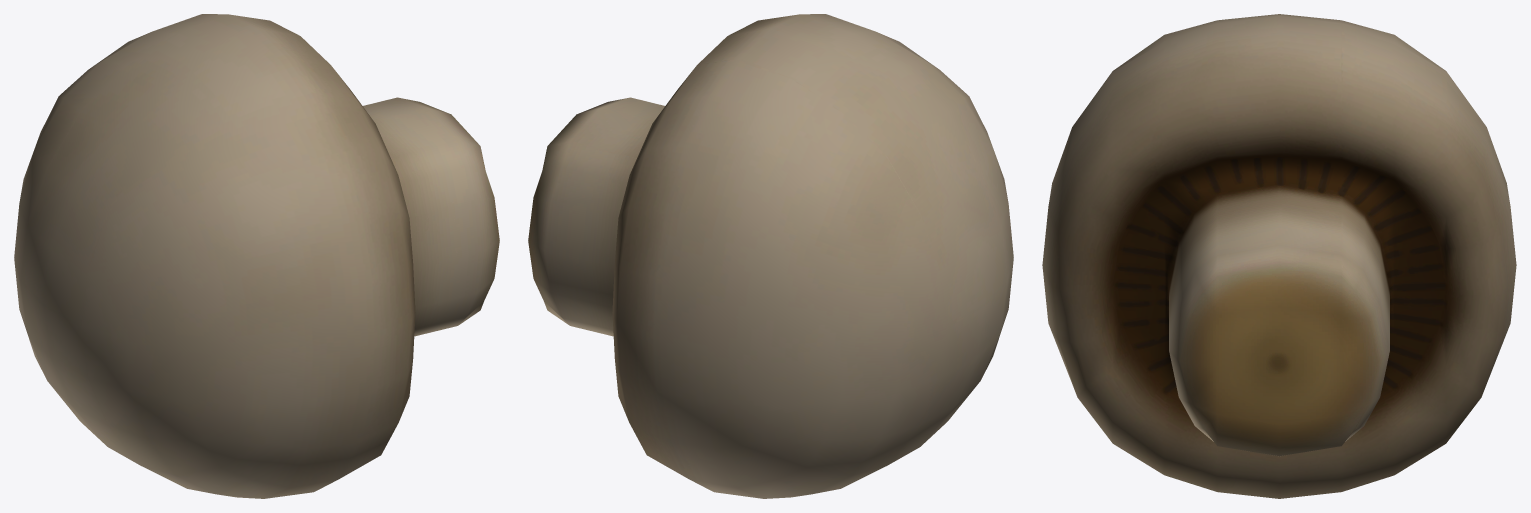
File: Mushroom.obj
3 views of the same model, side by side, from view 1: azimuth 30°, elevation 25°; view 2: azimuth 150°, elevation 25°; view 3: azimuth 270°, elevation 25° (orthographic). The views are drawn at different scales.
Parts seen in each view (by area): view 1: Mushroom_Whole; view 2: Mushroom_Whole; view 3: Mushroom_Whole.
Part boxes in pixels (x1=…): Mushroom_Whole: x1=14, y1=14, x2=499, y2=498; Mushroom_Whole: x1=528, y1=14, x2=1013, y2=498; Mushroom_Whole: x1=1042, y1=14, x2=1516, y2=498.
Bounding box in the file's own units: 3.75 × 3.84 × 3.58.
1 material, 1 textured.
